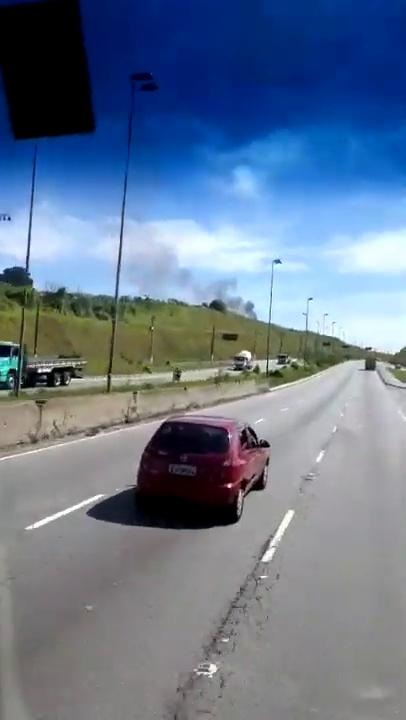Smoke: (108, 216, 282, 328)
